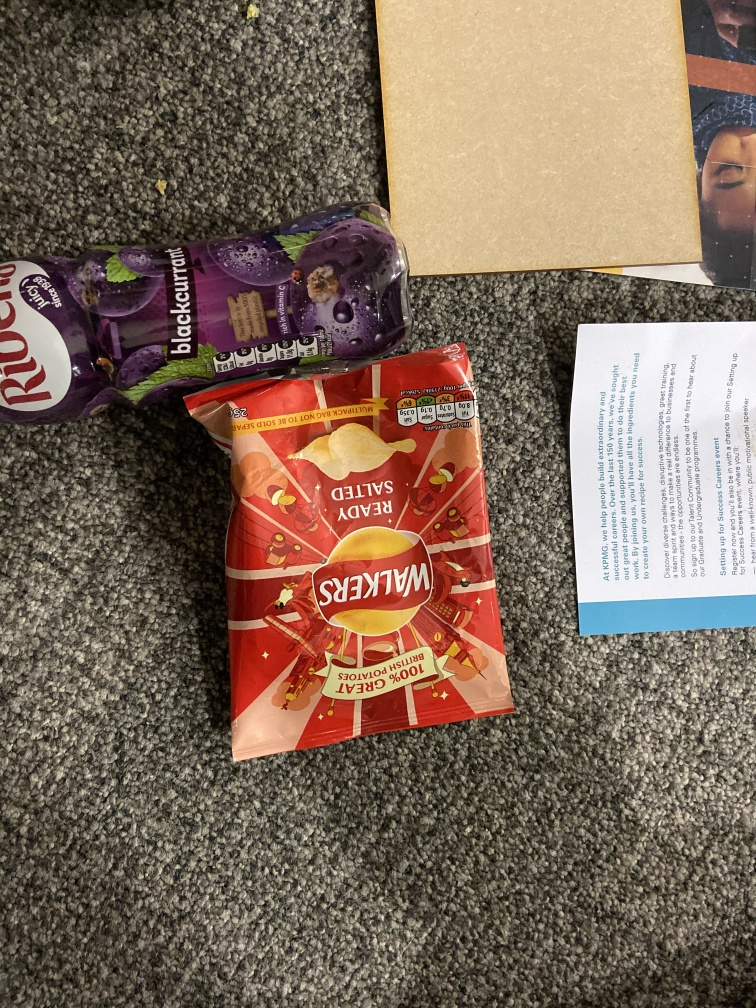bottle_purple: (1, 202, 419, 428)
